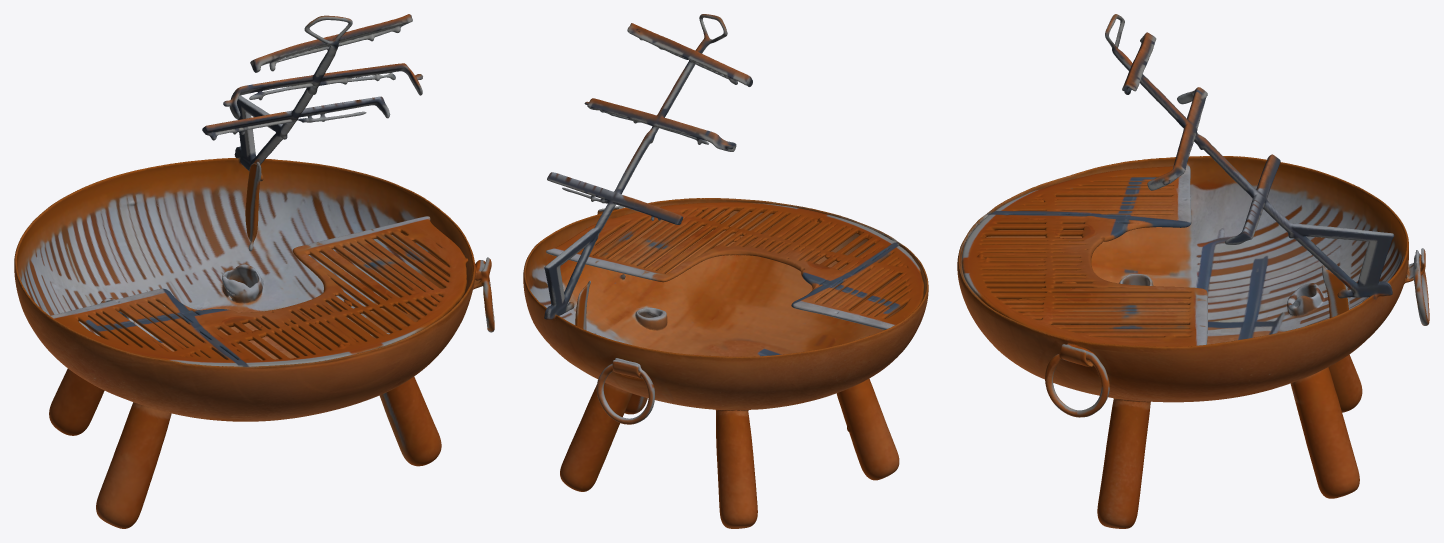
Rendered from fogonero_criollo.glb.
The picture shows the model from 3 angles, left to right: view 1: azimuth 30°, elevation 25°; view 2: azimuth 150°, elevation 25°; view 3: azimuth 270°, elevation 25°; orthographic projection. The views are drawn at different scales.
Parts seen in each view (by area): view 1: tripo_node_1791e2ac-6ba4-4ae1-a1bc-0a55755d8a02; view 2: tripo_node_1791e2ac-6ba4-4ae1-a1bc-0a55755d8a02; view 3: tripo_node_1791e2ac-6ba4-4ae1-a1bc-0a55755d8a02.
Part boxes in pixels (left/top/right/bottom): tripo_node_1791e2ac-6ba4-4ae1-a1bc-0a55755d8a02: left=14, top=14, right=494, bottom=528; tripo_node_1791e2ac-6ba4-4ae1-a1bc-0a55755d8a02: left=523, top=14, right=928, bottom=528; tripo_node_1791e2ac-6ba4-4ae1-a1bc-0a55755d8a02: left=957, top=14, right=1429, bottom=528.
Bounding box in the file's own units: 0.9004 × 1 × 0.9172.
1 material, 1 textured.
